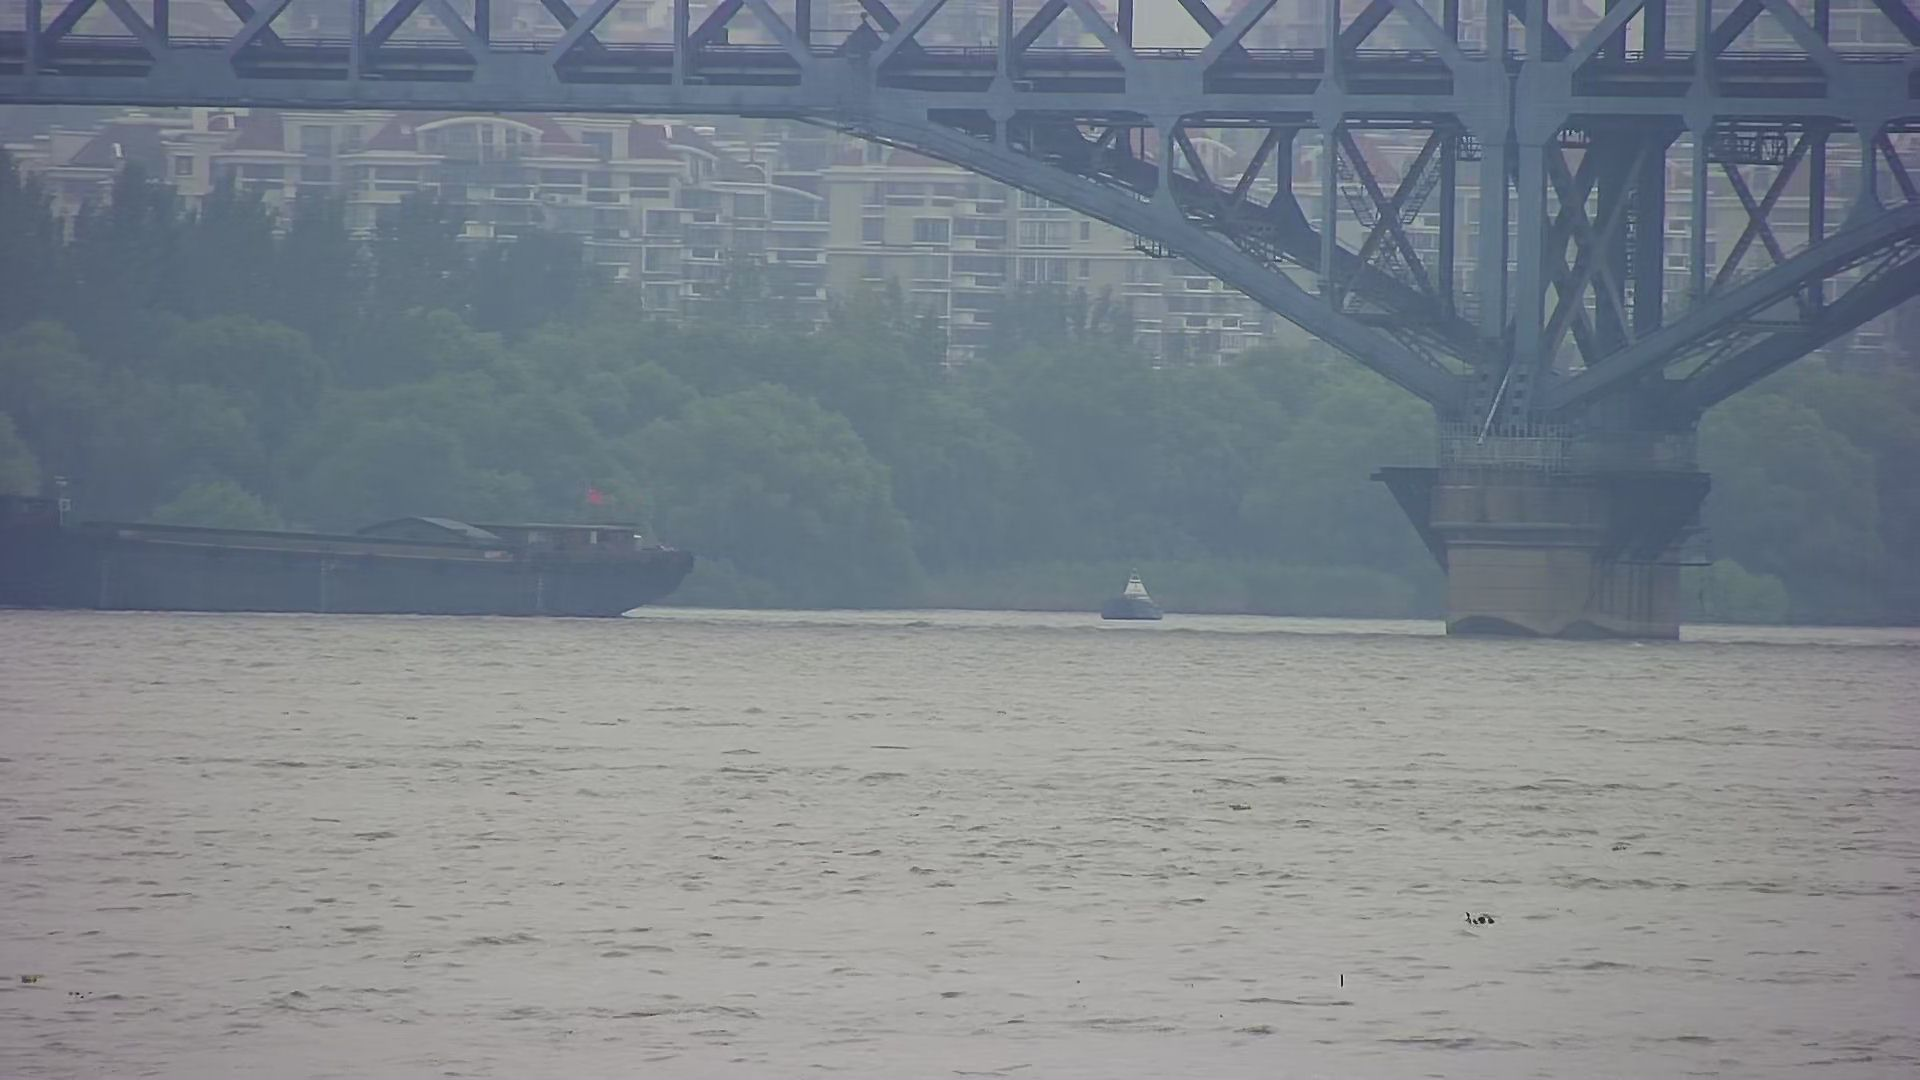boat: (1095, 559, 1178, 632)
bridge: (1, 1, 1912, 645)
ship: (1, 469, 709, 624)
